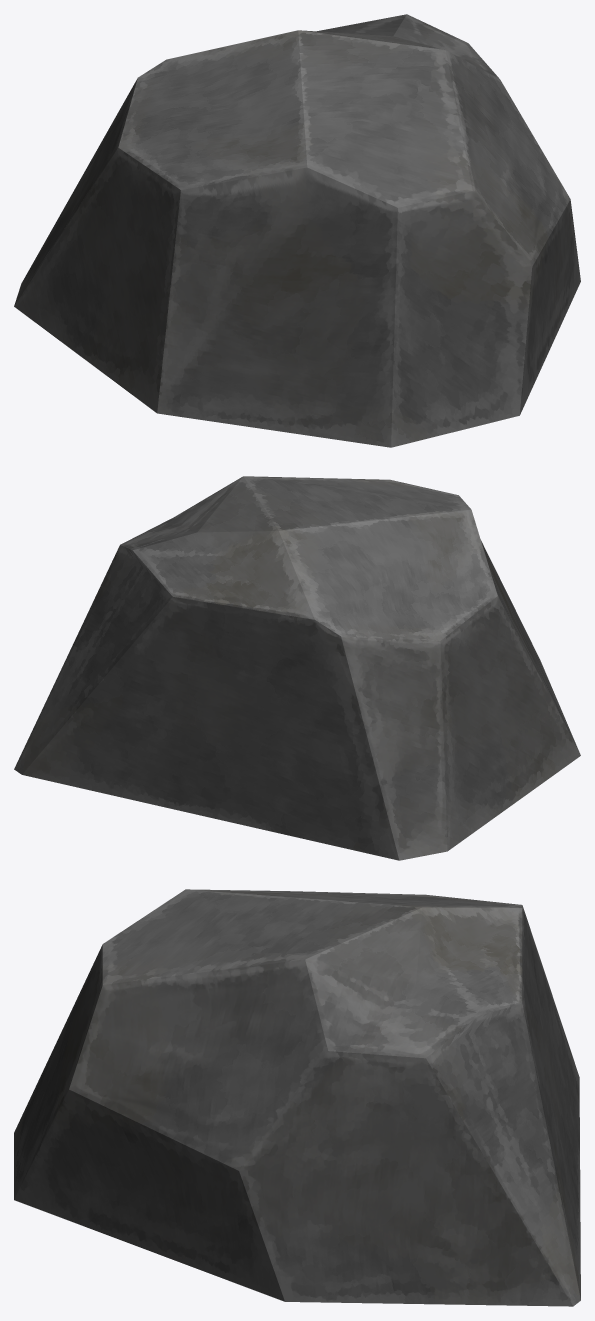
The model's file is Rock3_low.fbx.
3 views of the same model, one above another, from view 1: azimuth 30°, elevation 25°; view 2: azimuth 150°, elevation 25°; view 3: azimuth 270°, elevation 25° (orthographic). The views are drawn at different scales.
Parts seen in each view (by area): view 1: rock_3_low; view 2: rock_3_low; view 3: rock_3_low.
Boxes of the visible parts, x1,y1,x2,y2 form: rock_3_low: (14,14,580,447); rock_3_low: (14,476,580,860); rock_3_low: (14,889,580,1306).
Bounding box in the file's own units: 270 × 149 × 270.
